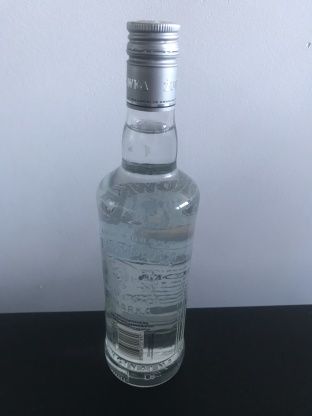nakretka: (124, 17, 182, 115)
